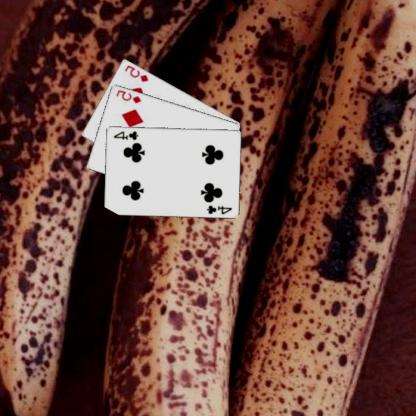4C: (206, 202, 235, 216), (112, 128, 140, 141)
5D: (124, 62, 151, 83), (115, 87, 144, 104)
